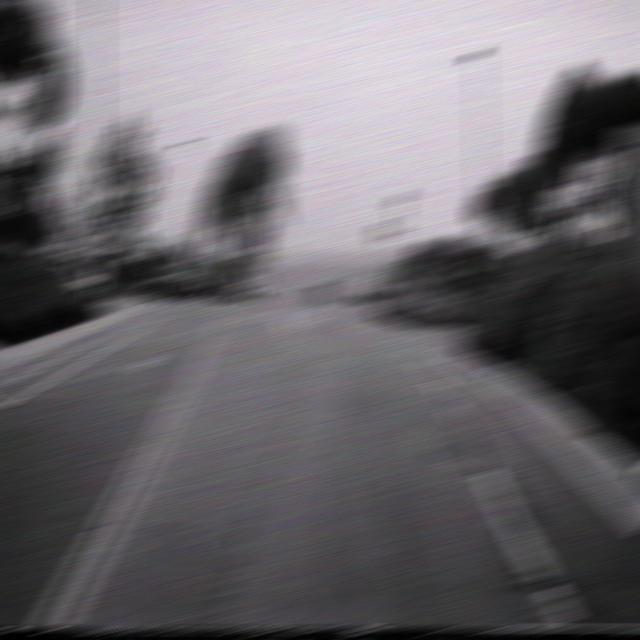stop_sign: (370, 218, 394, 243)
